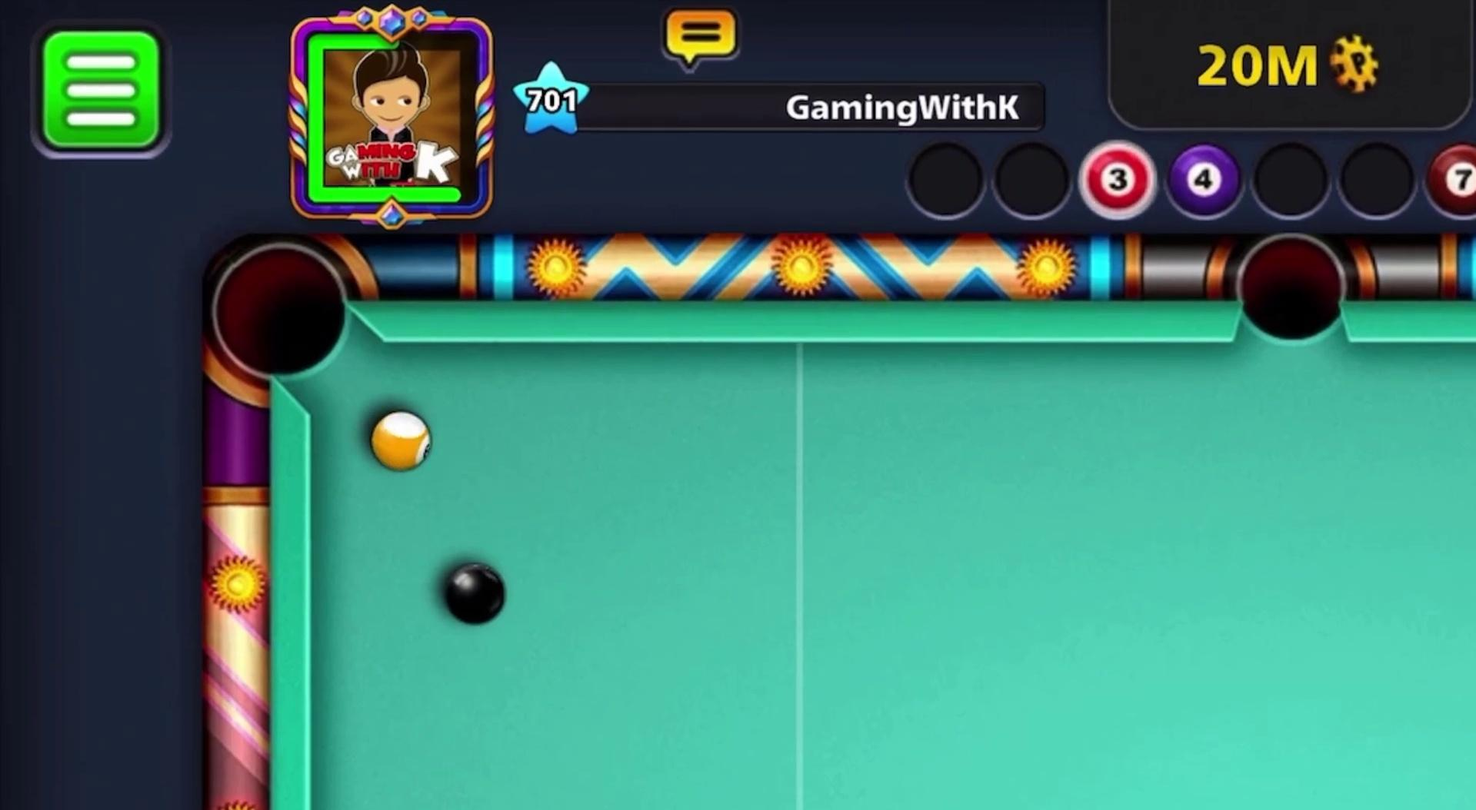Ball: (363, 406, 435, 484), (433, 553, 510, 625)
Hole: (200, 221, 396, 418), (1228, 219, 1349, 354)
